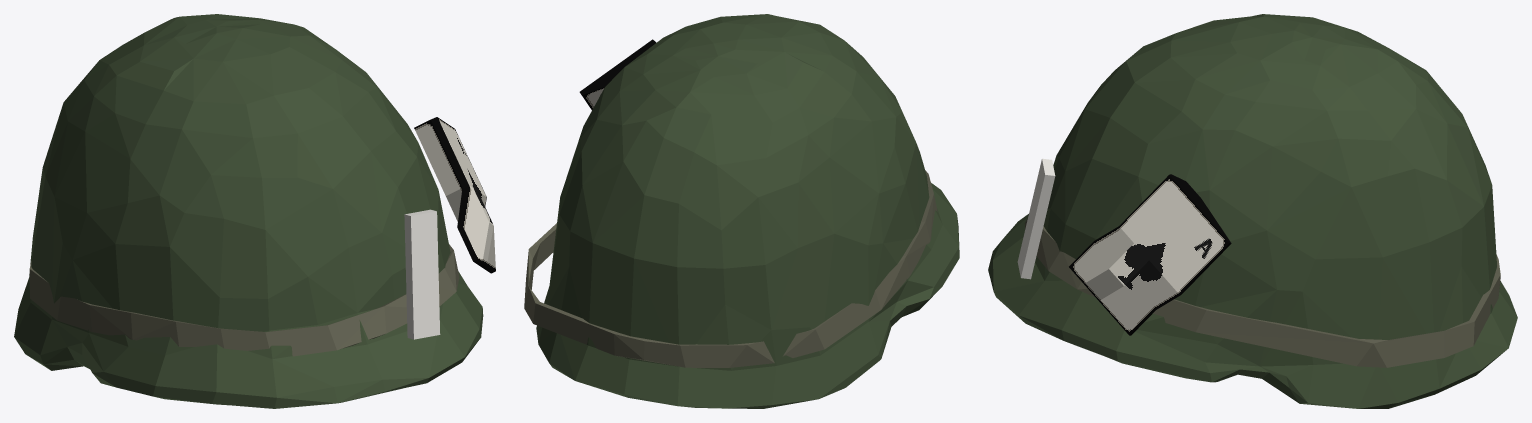
Rendered from m1_erdl_short.glb.
3 renders of one model, left to right at view 1: azimuth 30°, elevation 25°; view 2: azimuth 150°, elevation 25°; view 3: azimuth 270°, elevation 25°, orthographic. The views are drawn at different scales.
Parts seen in each view (by area): view 1: helmet_erdl_short_cover, helmet_erdl_short_band, helmet_erdl_short_card_ace, helmet_erdl_short_gum; view 2: helmet_erdl_short_cover, helmet_erdl_short_band, helmet_erdl_short_card_ace; view 3: helmet_erdl_short_cover, helmet_erdl_short_card_ace, helmet_erdl_short_band, helmet_erdl_short_gum.
Boxes of the visible parts, left/top/right/bottom form: helmet_erdl_short_cover: left=14, top=14, right=483, bottom=408; helmet_erdl_short_band: left=29, top=244, right=459, bottom=356; helmet_erdl_short_card_ace: left=414, top=117, right=495, bottom=273; helmet_erdl_short_gum: left=404, top=209, right=440, bottom=339; helmet_erdl_short_cover: left=536, top=14, right=959, bottom=408; helmet_erdl_short_band: left=524, top=170, right=937, bottom=367; helmet_erdl_short_card_ace: left=579, top=39, right=656, bottom=109; helmet_erdl_short_cover: left=988, top=14, right=1517, bottom=408; helmet_erdl_short_card_ace: left=1069, top=174, right=1231, bottom=335; helmet_erdl_short_band: left=1024, top=217, right=1500, bottom=367; helmet_erdl_short_gum: left=1017, top=158, right=1055, bottom=279.
Size of the model in its own units: 0.2425 by 0.1917 by 0.3044.
4 materials, 1 textured.
